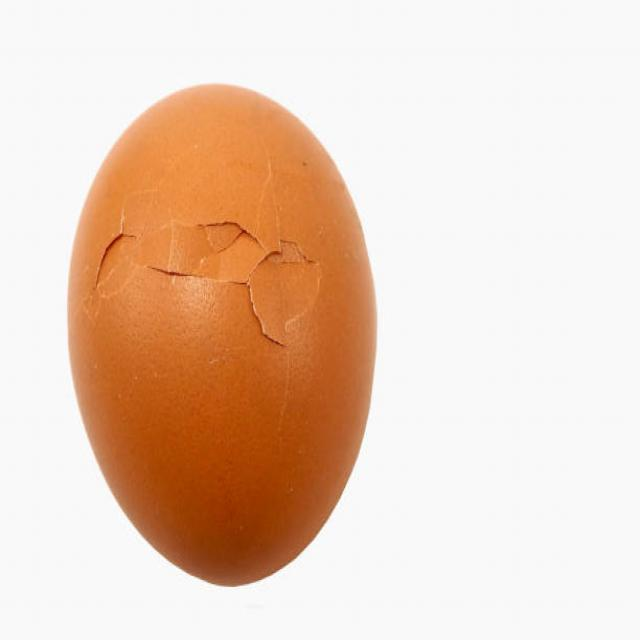biodegradable: (66, 82, 380, 588)
